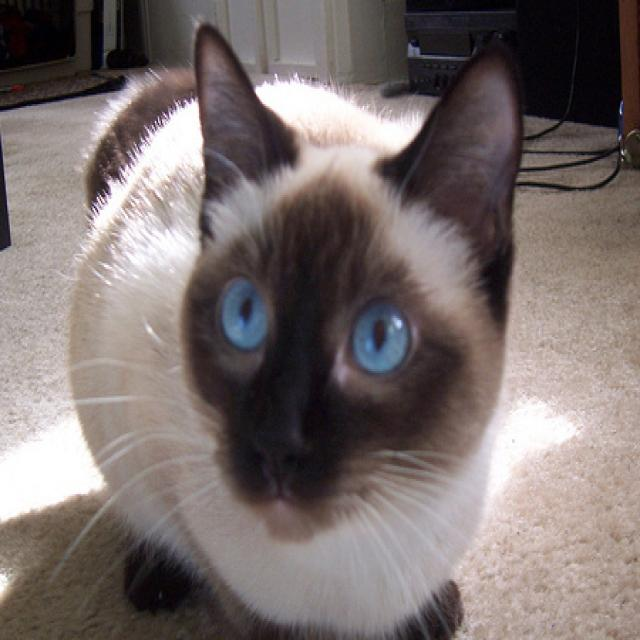Siamese: (63, 13, 526, 640)
